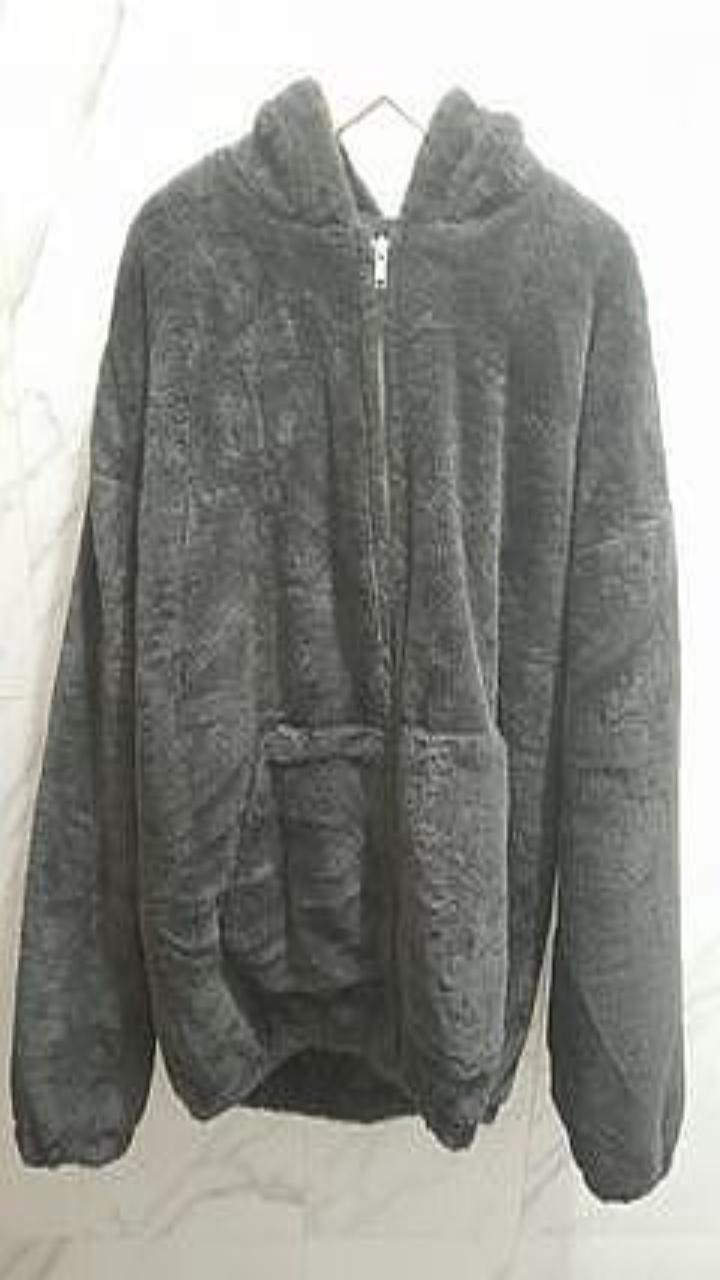Sports_Jacket: (11, 76, 684, 1199)
